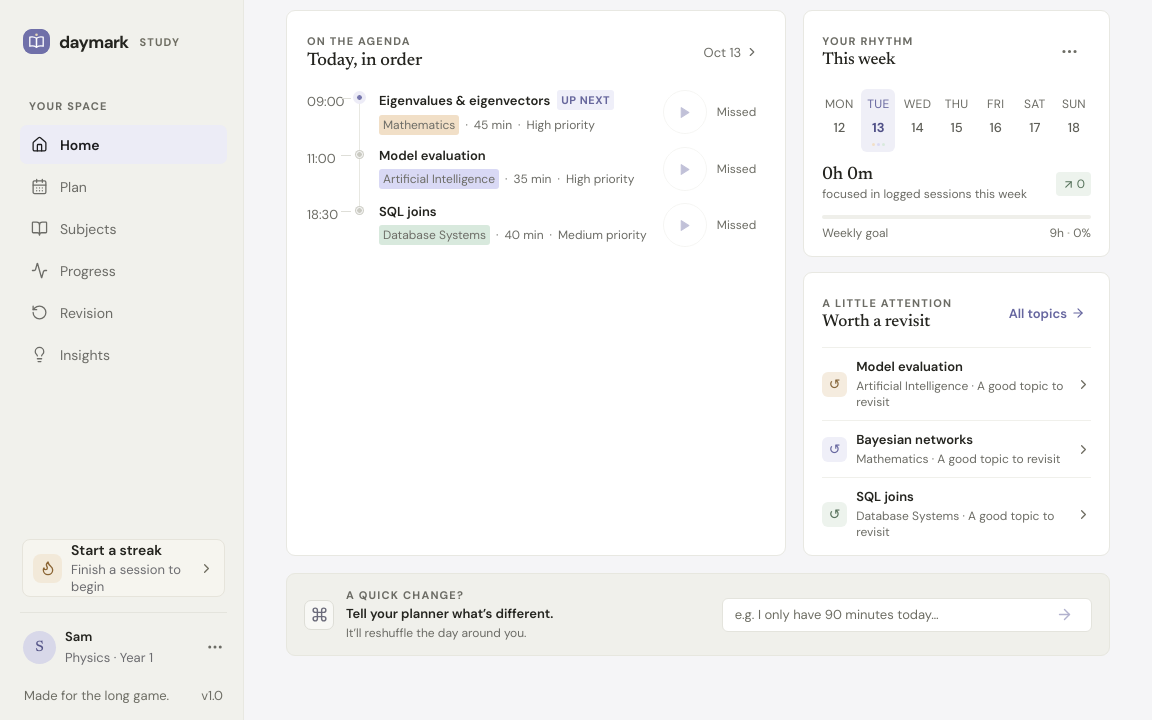
Test case: Quick change › explains when it cannot understand a request and offers nothing to accept
The image size is (1152, 720).
(page scrolled)
In the field named "tell your planner": (887, 615) [733, 605, 1042, 624], type "what a lovely day"
Then press Enter
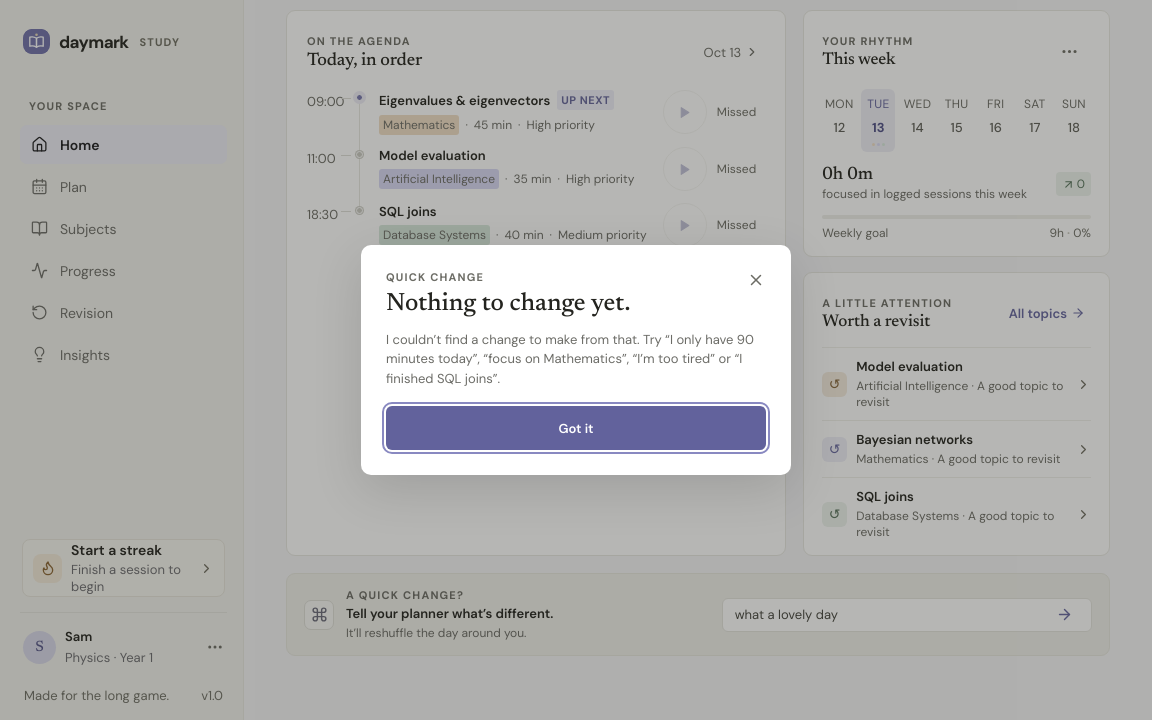
Click the button "Got it": (576, 428) [386, 406, 766, 450]
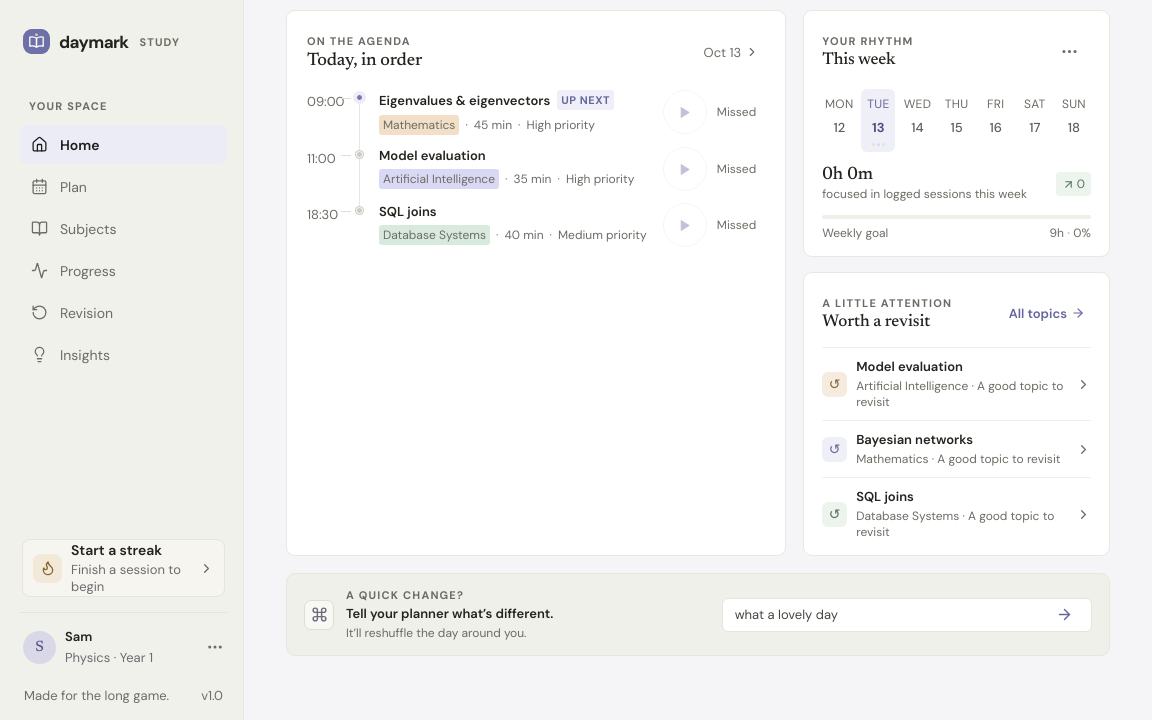
Now the dialog is gone
